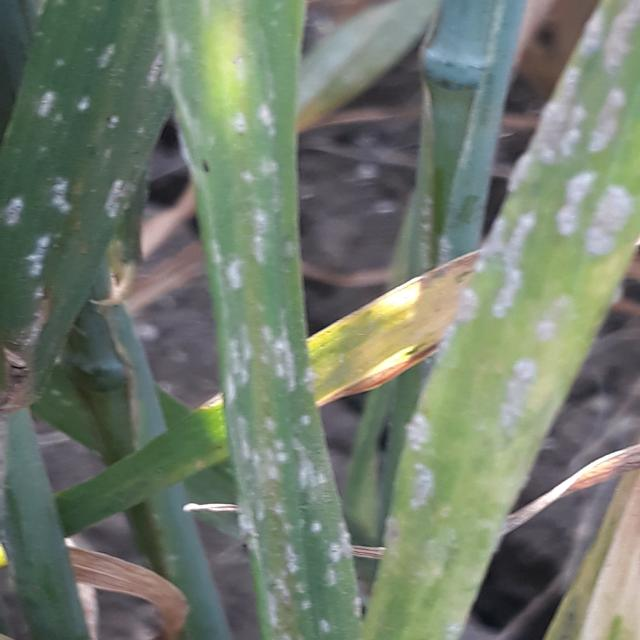powder_mildew: (368, 8, 640, 640), (151, 6, 366, 640), (0, 2, 188, 430)
